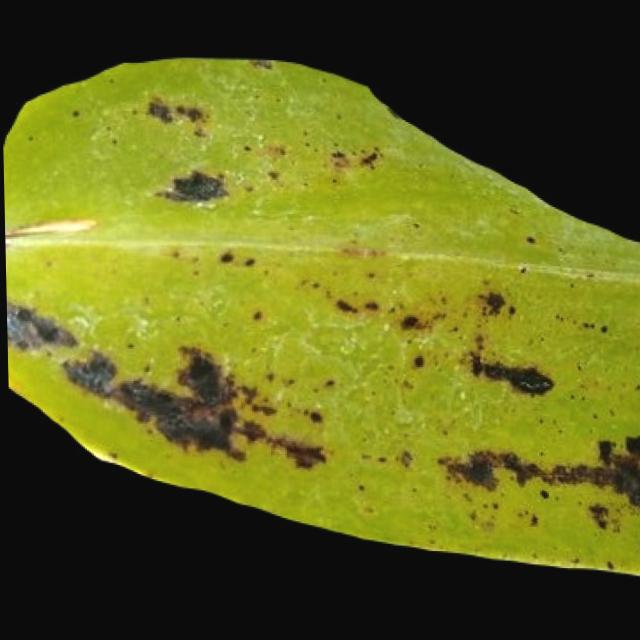mite: (139, 92, 227, 207), (590, 429, 640, 510), (5, 299, 76, 353), (170, 344, 223, 403), (58, 349, 116, 394), (160, 167, 225, 203), (507, 364, 550, 393), (473, 287, 504, 314), (143, 96, 172, 123), (619, 431, 640, 458), (215, 248, 233, 262), (532, 486, 547, 498), (521, 232, 535, 243)
spots: (1, 52, 640, 579)
